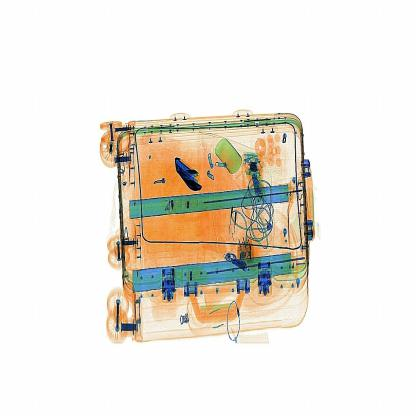pliers: (172, 148, 210, 210)
